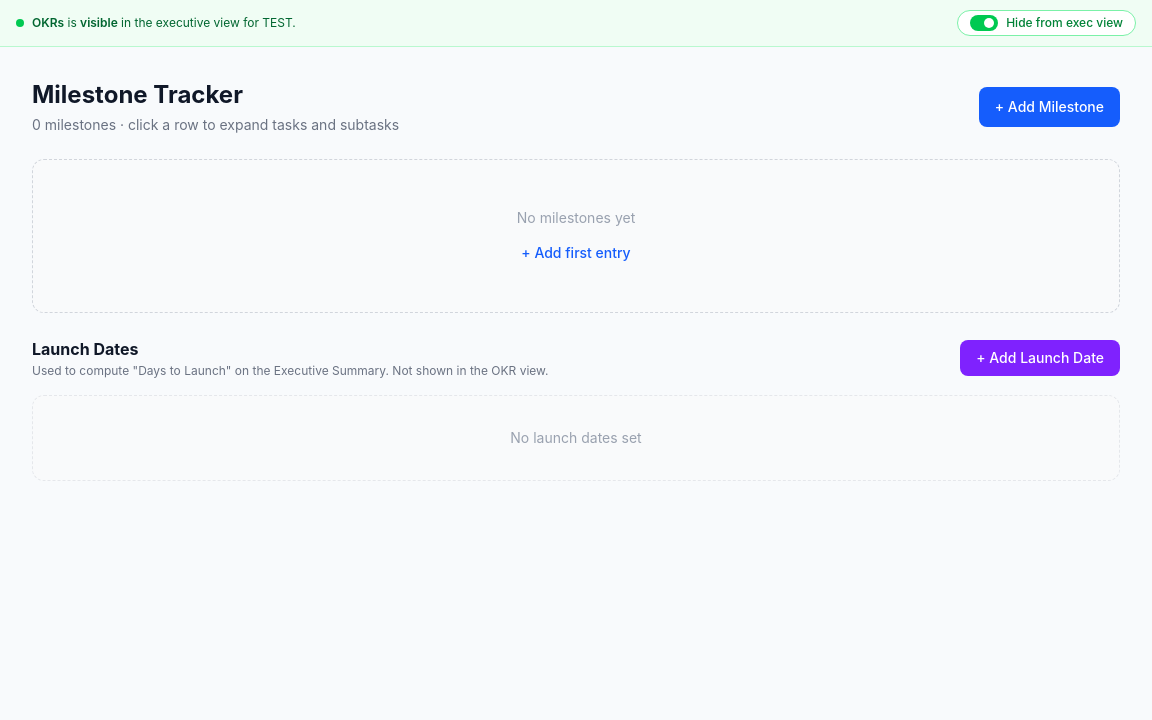
Scenario: OKREditor › T-32.03: saving a new milestone adds it to the list
Click the button "+ Add Milestone" at (1049, 107), box x1=979 y1=87 x2=1120 y2=127
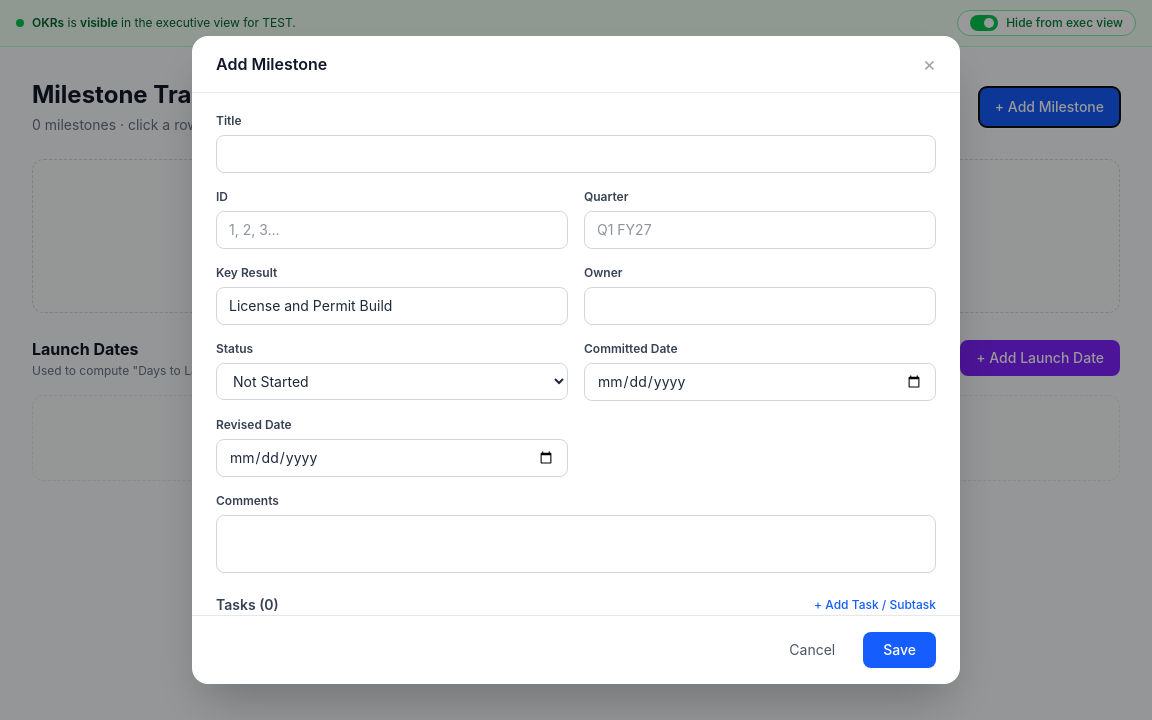
Check: the heading "Add Milestone" is shown, box x1=216 y1=52 x2=327 y2=76
Type "MVP Launch" into the field below "Title" at (576, 154), box x1=216 y1=135 x2=936 y2=173
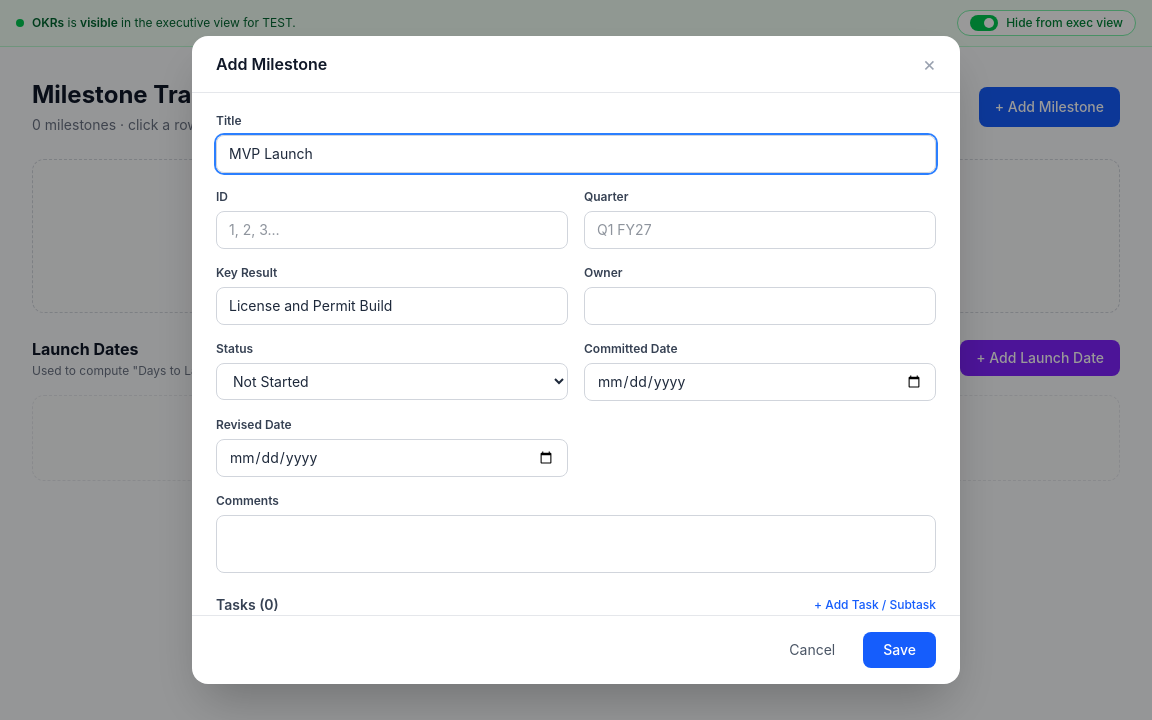
Click the button "Save" at (900, 650), box x1=863 y1=632 x2=936 y2=668
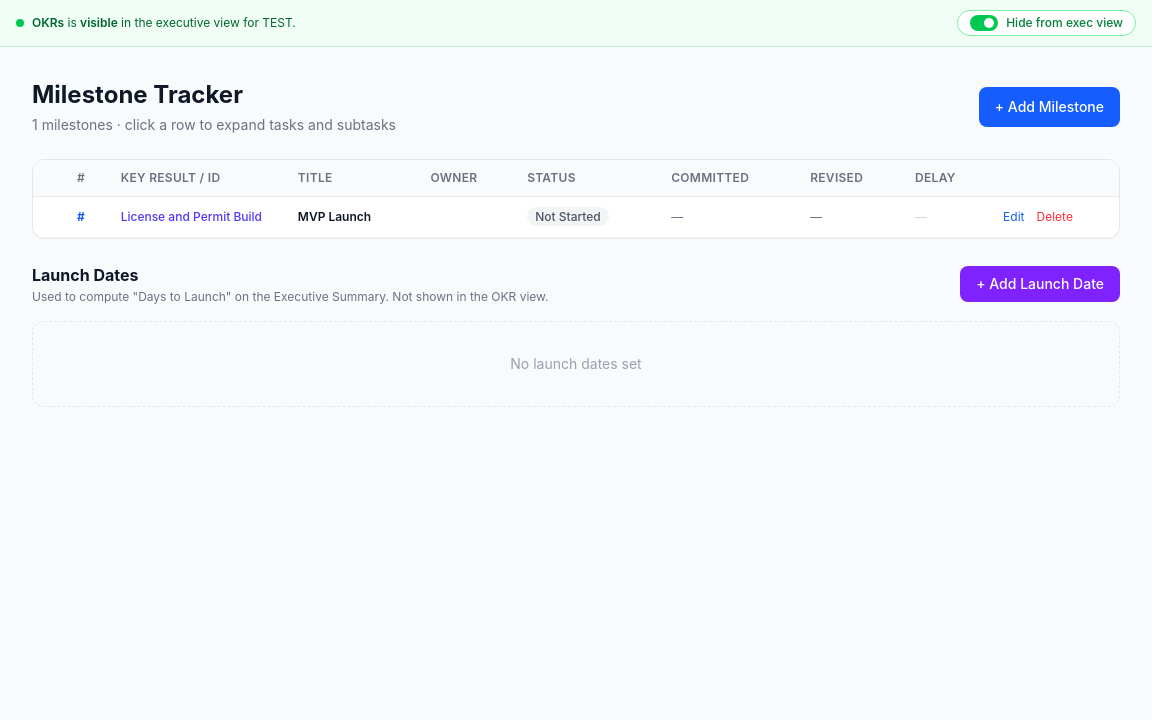
Check: the text "MVP Launch" is shown, box x1=286 y1=196 x2=418 y2=238
